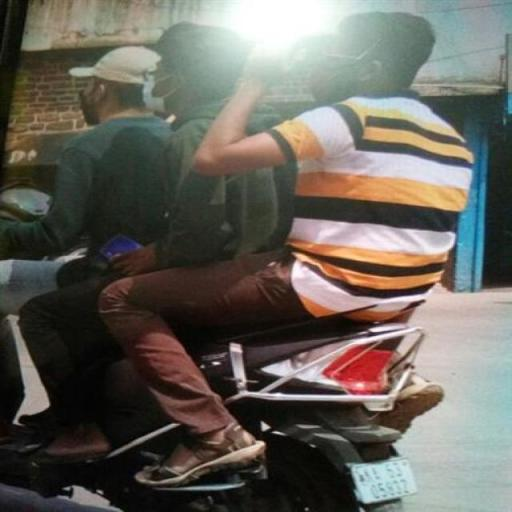tripple riding: (0, 11, 488, 355)
